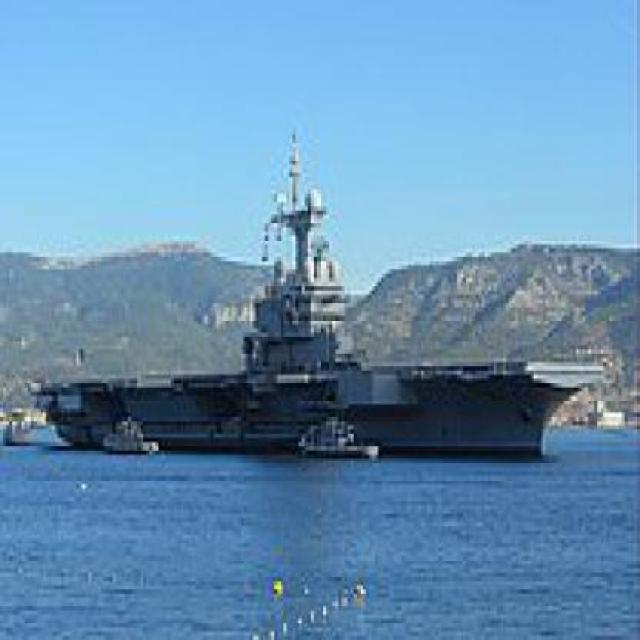warship2: (37, 114, 605, 473)
